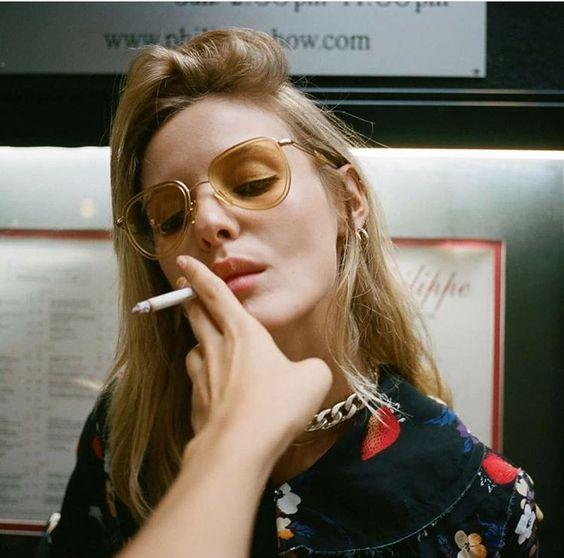cigarette: (132, 286, 198, 314)
